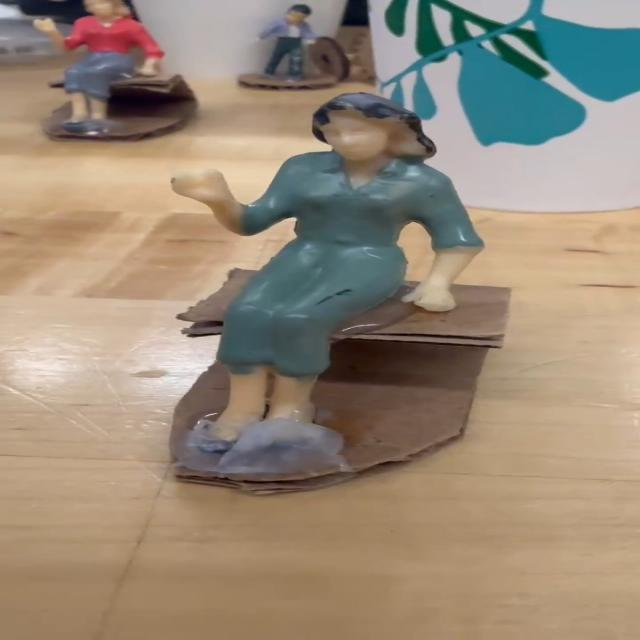Authorized: (123, 98, 515, 544)
